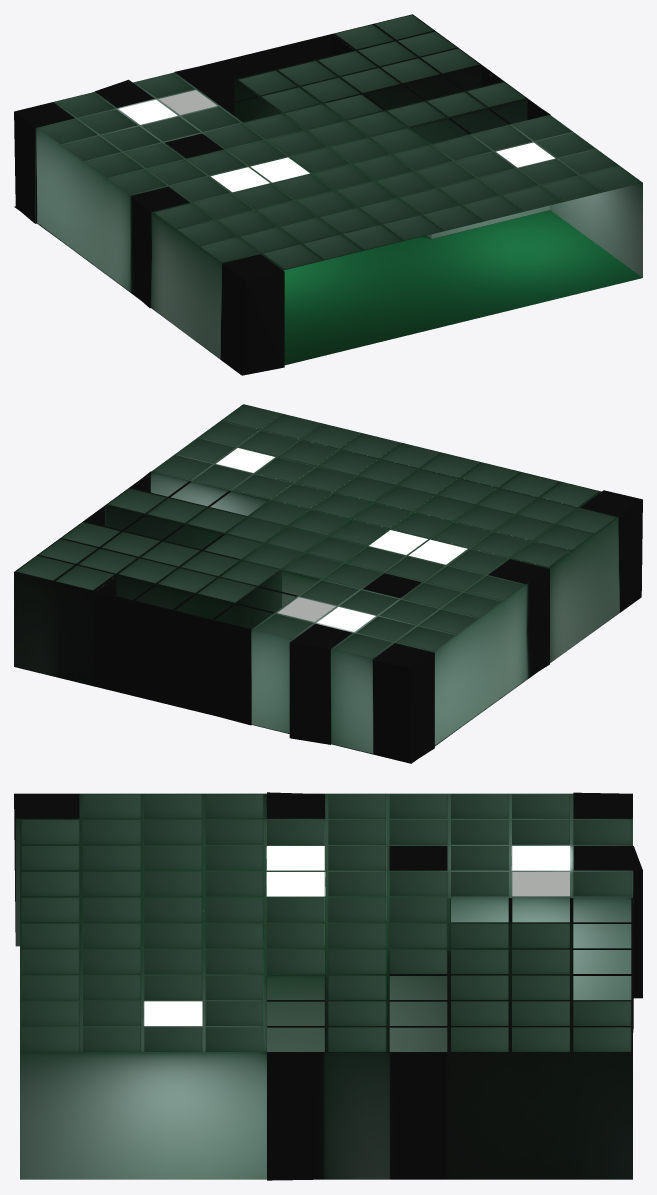
Rendered from backroom-transformed.glb.
3 views of the same model, one above another, from view 1: azimuth 30°, elevation 25°; view 2: azimuth 150°, elevation 25°; view 3: azimuth 270°, elevation 25° (orthographic). The views are drawn at different scales.
Visible parts, largest first — view 1: roof.003_Baked, walls.003_Baked, floor.004_Baked, roof grid_Baked, ligths, ligths.001, ligths.003; view 2: walls.003_Baked, roof.003_Baked, roof grid_Baked, ligths, ligths.001, ligths.003; view 3: roof.003_Baked, walls.003_Baked, roof grid_Baked, ligths, ligths.001, ligths.003.
Part boxes in pixels (left/top/right/bottom): roof.003_Baked: left=39, top=15, right=640, bottom=269; walls.003_Baked: left=14, top=34, right=642, bottom=375; floor.004_Baked: left=14, top=206, right=642, bottom=375; roof grid_Baked: left=16, top=14, right=642, bottom=279; ligths: left=119, top=100, right=554, bottom=167; ligths.001: left=211, top=157, right=309, bottom=191; ligths.003: left=158, top=90, right=217, bottom=114; walls.003_Baked: left=14, top=471, right=642, bottom=762; roof.003_Baked: left=16, top=404, right=615, bottom=658; roof grid_Baked: left=14, top=404, right=638, bottom=667; ligths: left=216, top=448, right=375, bottom=631; ligths.001: left=369, top=530, right=467, bottom=564; ligths.003: left=277, top=597, right=335, bottom=621; roof.003_Baked: left=21, top=794, right=631, bottom=1051; walls.003_Baked: left=14, top=792, right=642, bottom=1180; roof grid_Baked: left=20, top=793, right=632, bottom=1052; ligths: left=144, top=846, right=569, bottom=1025; ligths.001: left=267, top=846, right=324, bottom=896; ligths.003: left=512, top=872, right=569, bottom=896.
Size of the model in its own units: 20.1 by 4.6 by 20.52.
7 materials, 4 textured.
